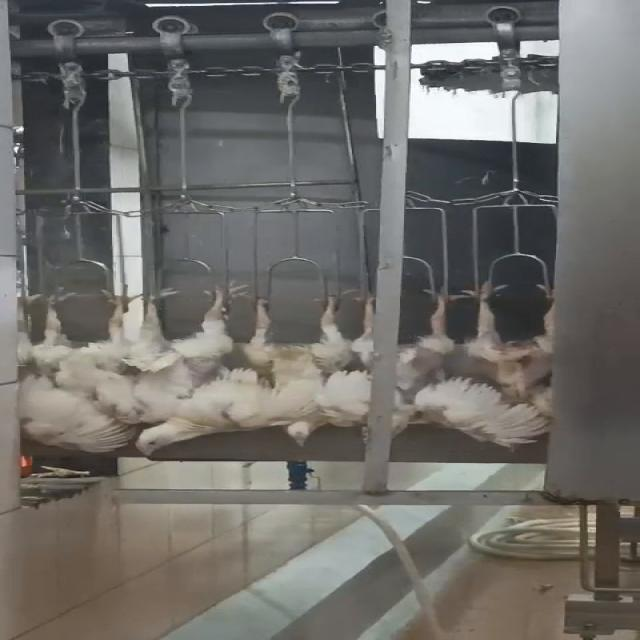chicken: (334, 279, 483, 450), (5, 280, 136, 460), (112, 286, 240, 460), (210, 295, 357, 445), (457, 280, 563, 450)
